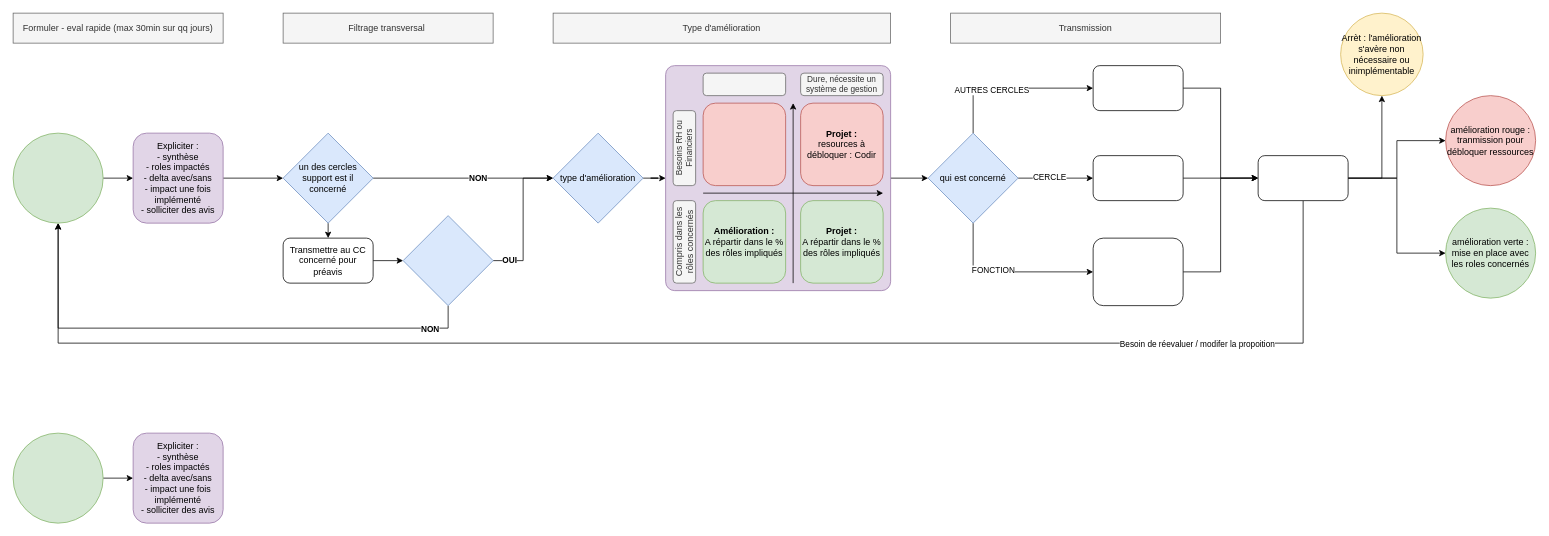
Image size: 1549x536. Some labels were removed from this diagram. Each missing label, with the box of its shape:
Amélioration : resources à débloquer : CC ou Codir: (702, 102, 786, 186)
Court, peut être porté individuellement: (702, 72, 786, 96)
décision: (402, 215, 493, 306)
Point avec les personnes concernées, débat, réflexions: (1257, 155, 1348, 201)
Proposer au cercle: (1092, 155, 1183, 201)
Proposer au cercles: (1092, 65, 1183, 111)
Proposer l'amélioration a la roles qui ont la fonction concernée + facilitateur: (1092, 237, 1183, 306)
Proposition d'amélioration ou de projet: (12, 132, 103, 223)
Tension: (12, 432, 103, 523)
